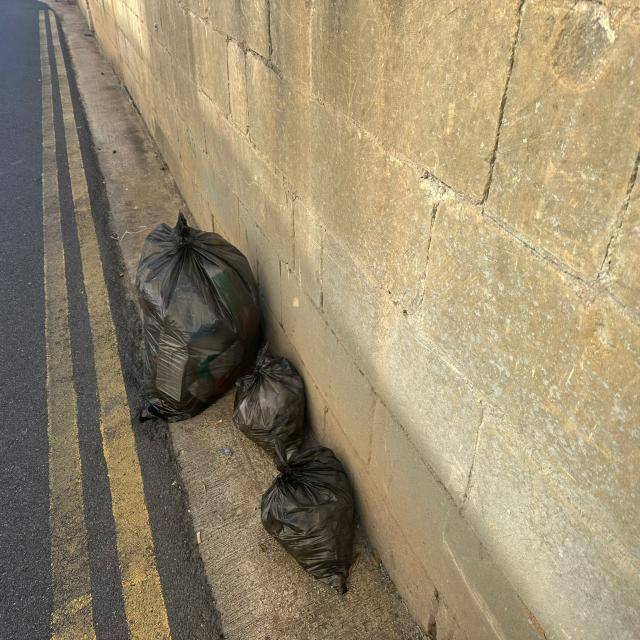black_bag: (128, 214, 266, 424), (254, 449, 360, 596), (229, 354, 309, 464)
